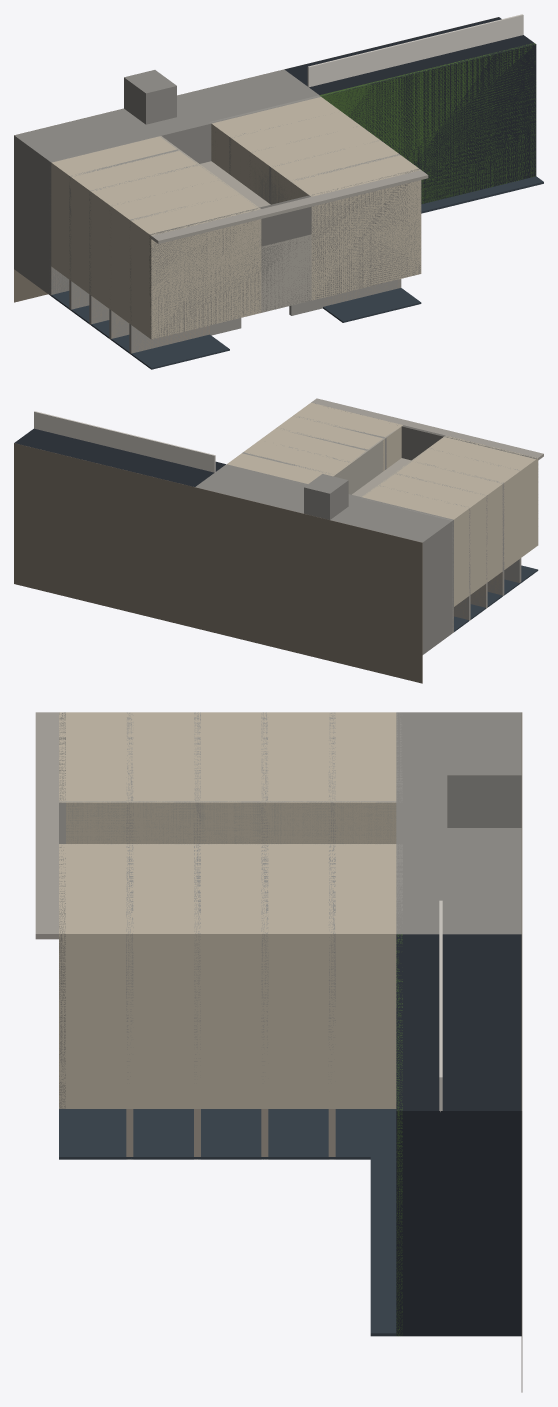
The picture shows the model from 3 angles, top to bottom: view 1: azimuth 30°, elevation 25°; view 2: azimuth 150°, elevation 25°; view 3: azimuth 270°, elevation 25°; orthographic projection. The views are drawn at different scales.
Visible parts, largest first — view 1: PODIUM_SHOPS, PODIUM_TERRACE, PODIUM_PARKING, FLOOR_5_WEST_WING, ROOF_SLAB, FLOOR_5_EAST_WING, FLOOR_3_WEST_WING, FLOOR_4_WEST_WING, FLOOR_2_WEST_WING, FLOOR_1_WEST_WING, FLOOR_5_CORE, FLOOR_2_EAST_WING (+19 smaller); view 2: SITE_PLOT, PODIUM_PARKING, PODIUM_SHOPS, FLOOR_4_WEST_WING, FLOOR_2_WEST_WING, FLOOR_5_WEST_WING, FLOOR_3_WEST_WING, FLOOR_1_WEST_WING, FLOOR_5_EAST_WING, ENTRANCE_CANOPY, FLOOR_4_EAST_WING, FLOOR_2_EAST_WING (+11 smaller); view 3: PODIUM_SHOPS, PODIUM_PARKING, FLOOR_1_EAST_WING, FLOOR_5_EAST_WING, FLOOR_2_EAST_WING, FLOOR_3_EAST_WING, FLOOR_4_EAST_WING, FLOOR_1_WEST_WING, FLOOR_4_WEST_WING, FLOOR_2_WEST_WING, FLOOR_3_WEST_WING, FLOOR_5_WEST_WING (+12 smaller).
Boxes of the visible parts, x1=… form: PODIUM_SHOPS: x1=284, y1=17, x2=536, y2=203; PODIUM_TERRACE: x1=319, y1=43, x2=536, y2=203; PODIUM_PARKING: x1=14, y1=69, x2=320, y2=295; FLOOR_5_WEST_WING: x1=131, y1=194, x2=261, y2=339; ROOF_SLAB: x1=149, y1=168, x2=420, y2=339; FLOOR_5_EAST_WING: x1=291, y1=155, x2=421, y2=300; FLOOR_3_WEST_WING: x1=91, y1=165, x2=220, y2=309; FLOOR_4_WEST_WING: x1=111, y1=180, x2=240, y2=324; FLOOR_2_WEST_WING: x1=71, y1=151, x2=200, y2=294; FLOOR_1_WEST_WING: x1=51, y1=136, x2=178, y2=280; FLOOR_5_CORE: x1=261, y1=234, x2=311, y2=312; FLOOR_2_EAST_WING: x1=231, y1=111, x2=360, y2=189; SITE_PLOT: x1=14, y1=443, x2=422, y2=683; PODIUM_PARKING: x1=195, y1=464, x2=453, y2=654; PODIUM_SHOPS: x1=14, y1=428, x2=225, y2=486; FLOOR_4_WEST_WING: x1=412, y1=448, x2=521, y2=569; FLOOR_2_WEST_WING: x1=379, y1=473, x2=487, y2=594; FLOOR_5_WEST_WING: x1=429, y1=436, x2=538, y2=557; FLOOR_3_WEST_WING: x1=396, y1=460, x2=504, y2=581; FLOOR_1_WEST_WING: x1=362, y1=485, x2=470, y2=606; FLOOR_5_EAST_WING: x1=294, y1=403, x2=402, y2=468; ENTRANCE_CANOPY: x1=304, y1=474, x2=348, y2=519; FLOOR_4_EAST_WING: x1=277, y1=415, x2=384, y2=470; FLOOR_2_EAST_WING: x1=244, y1=439, x2=352, y2=474; PODIUM_SHOPS: x1=396, y1=934, x2=521, y2=1336; PODIUM_PARKING: x1=396, y1=712, x2=521, y2=934; FLOOR_1_EAST_WING: x1=328, y1=844, x2=396, y2=1108; FLOOR_5_EAST_WING: x1=59, y1=844, x2=126, y2=1108; FLOOR_2_EAST_WING: x1=261, y1=844, x2=328, y2=1108; FLOOR_3_EAST_WING: x1=194, y1=844, x2=261, y2=1108; FLOOR_4_EAST_WING: x1=126, y1=844, x2=193, y2=1108; FLOOR_1_WEST_WING: x1=328, y1=712, x2=396, y2=843; FLOOR_4_WEST_WING: x1=126, y1=712, x2=193, y2=843; FLOOR_2_WEST_WING: x1=261, y1=712, x2=328, y2=843; FLOOR_3_WEST_WING: x1=194, y1=712, x2=261, y2=843; FLOOR_5_WEST_WING: x1=59, y1=712, x2=126, y2=843.
Bounding box in the file's own units: 40.57 × 15.87 × 20.92.
